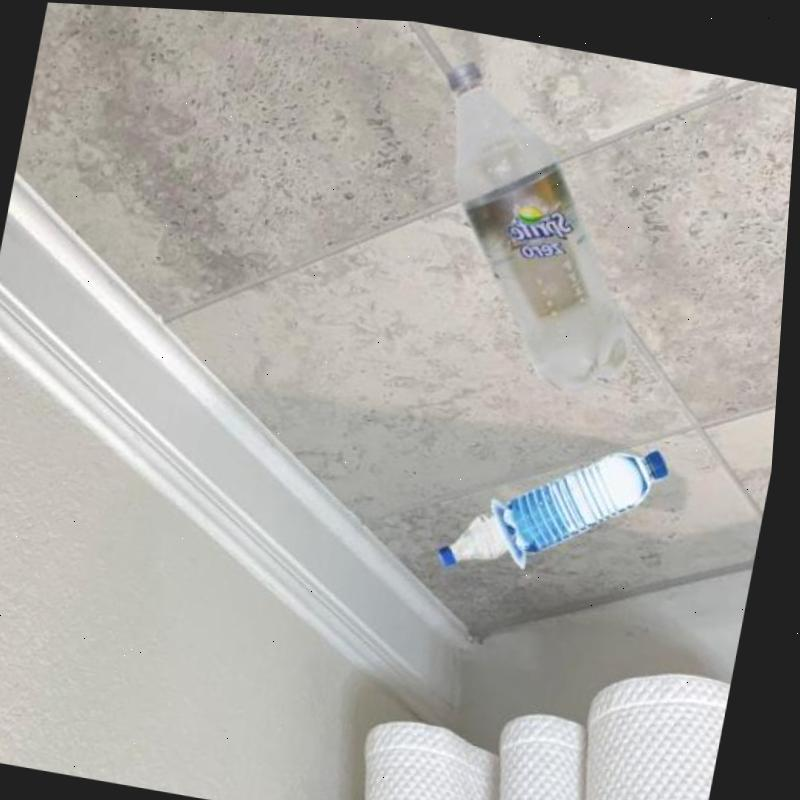botella: (396, 50, 679, 395), (499, 420, 676, 568), (442, 496, 521, 571)
